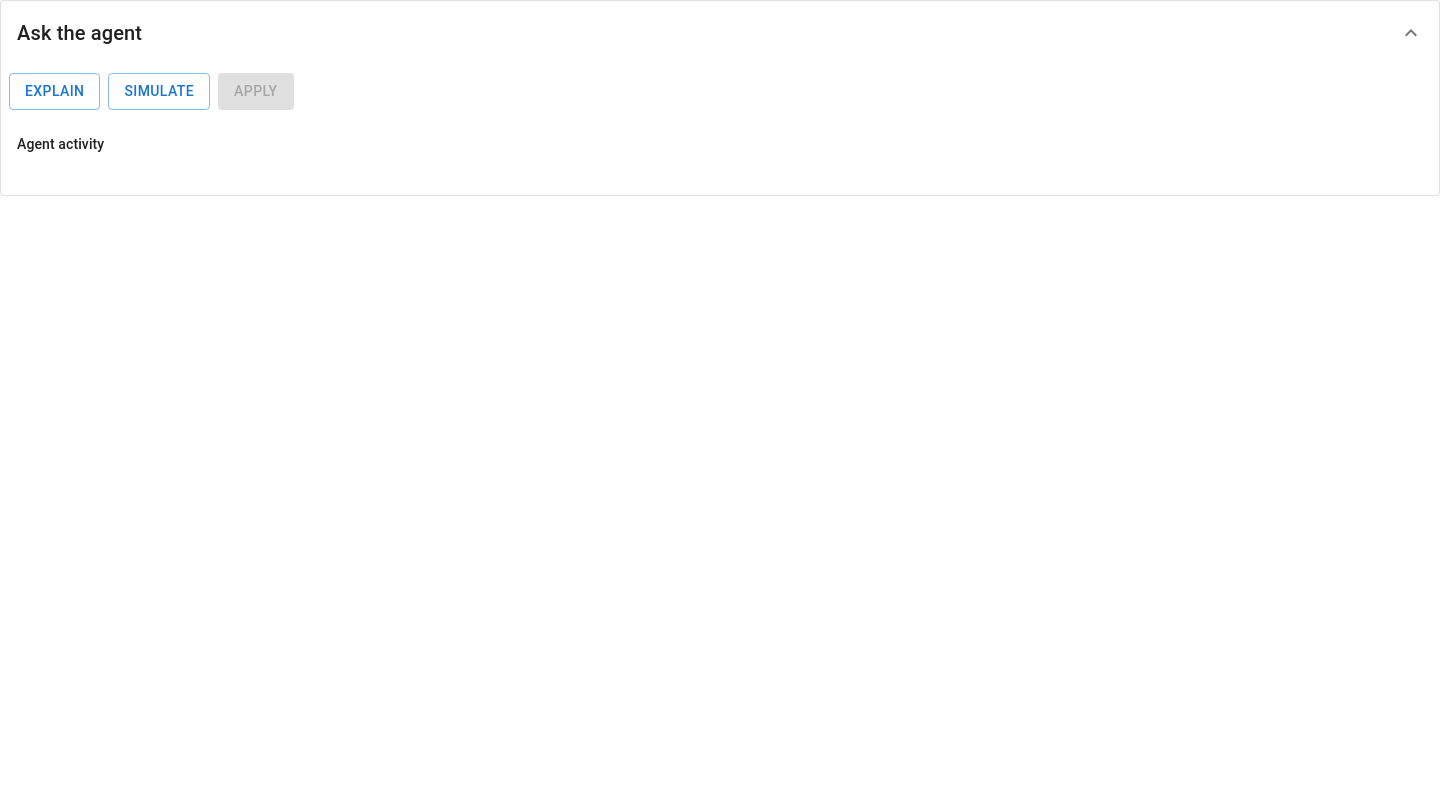
Test case: AgentPanel (screen.custom / agent-panel) › explains, simulates, then applies and reports the audit
Expected: the button with test id "agent-apply" is disabled, [218,73,294,110]
Step 1. Click the button with test id "agent-explain" → (55, 91), box [9,73,100,110]
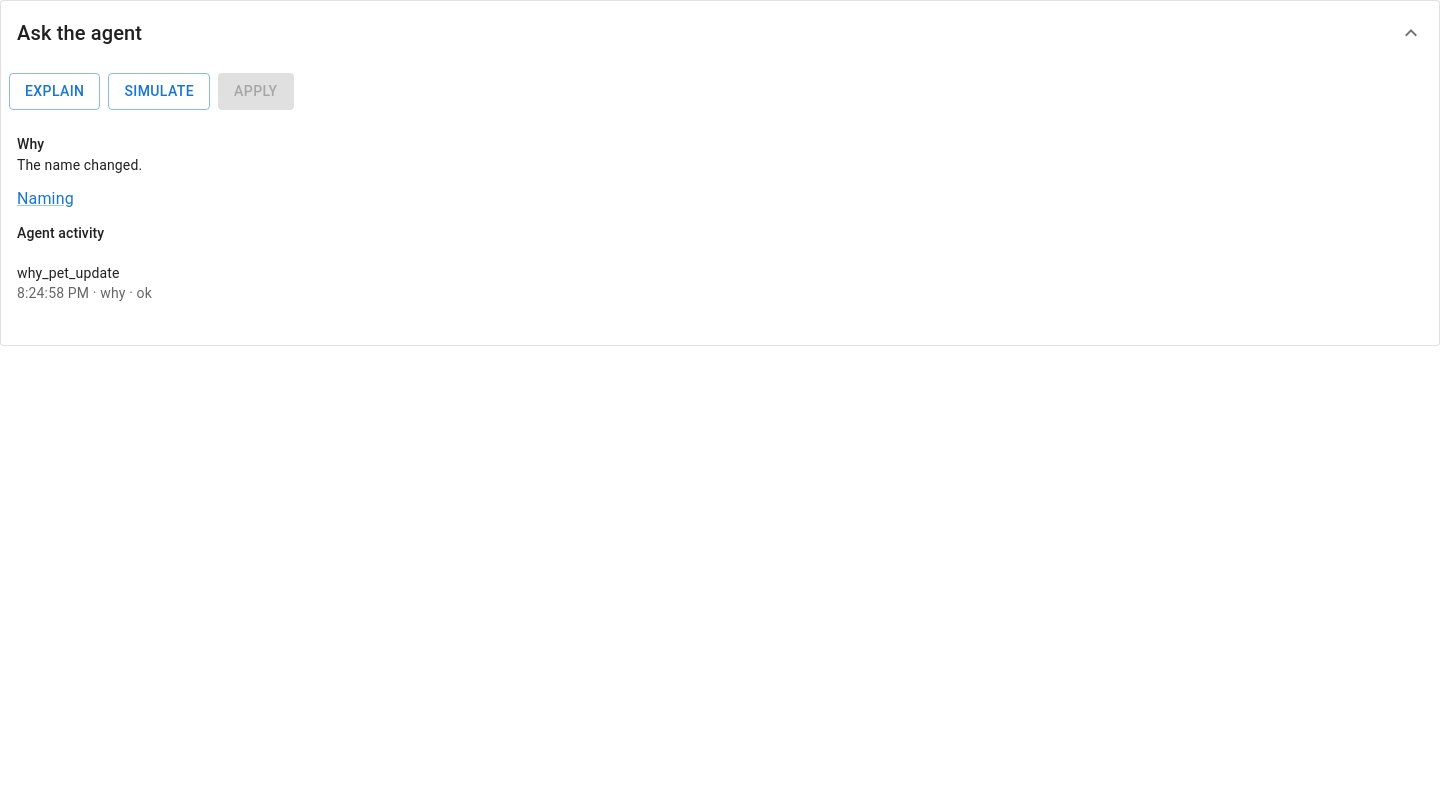
Expected: the button with test id "agent-apply" is disabled, [218,73,294,110]
Now the text "The name changed." is shown, box [17,158,142,174]
Step 2. Click the button with test id "agent-simulate" → (159, 91), box [108,73,210,110]
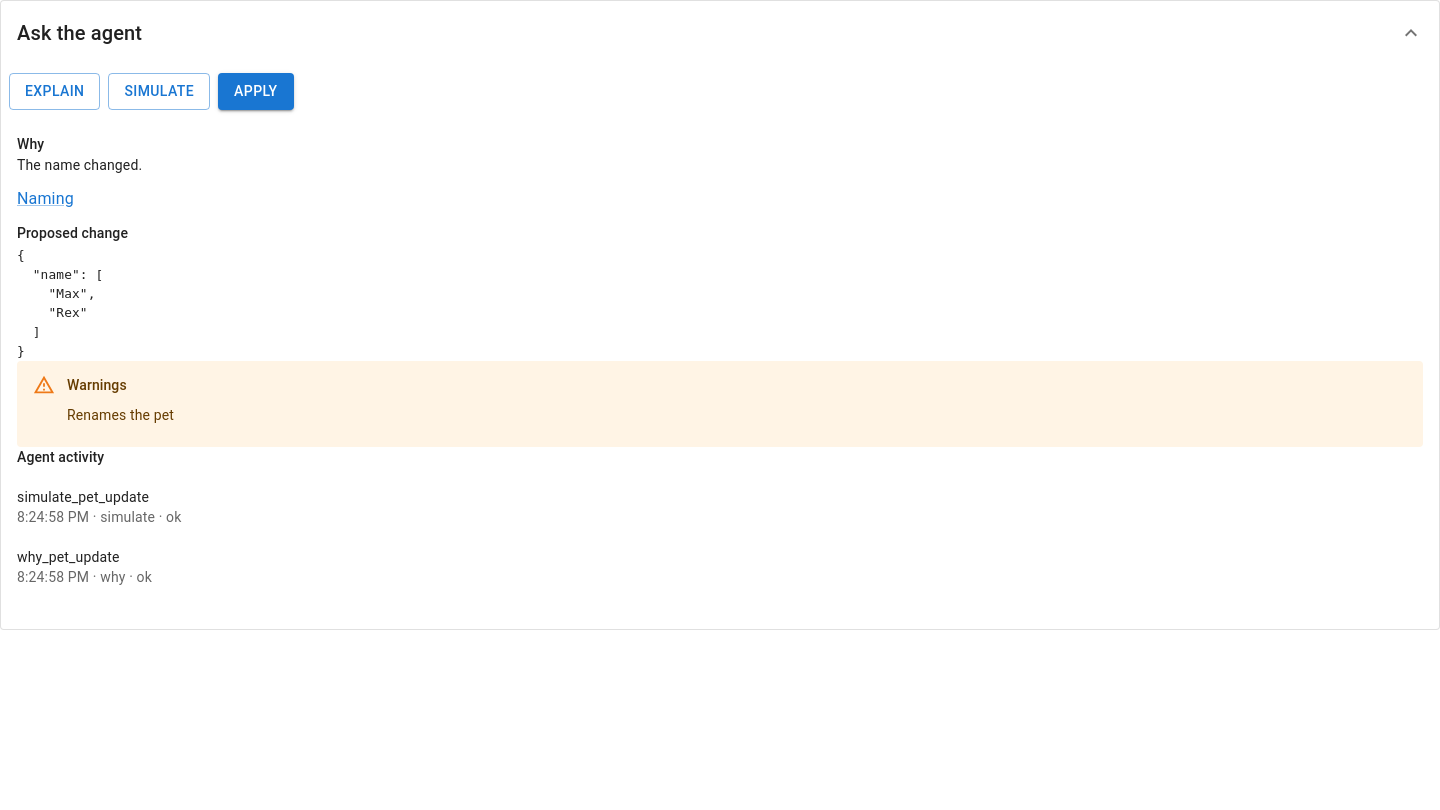
Now the text with test id "agent-diff" shows "\"Rex\"", box [17,248,103,358]
Now the message with test id "agent-warnings" shows "Renames the pet", box [67,406,174,422]
Now the button with test id "agent-apply" is enabled
Step 3. Click the button with test id "agent-apply" → (256, 91), box [218,73,294,110]
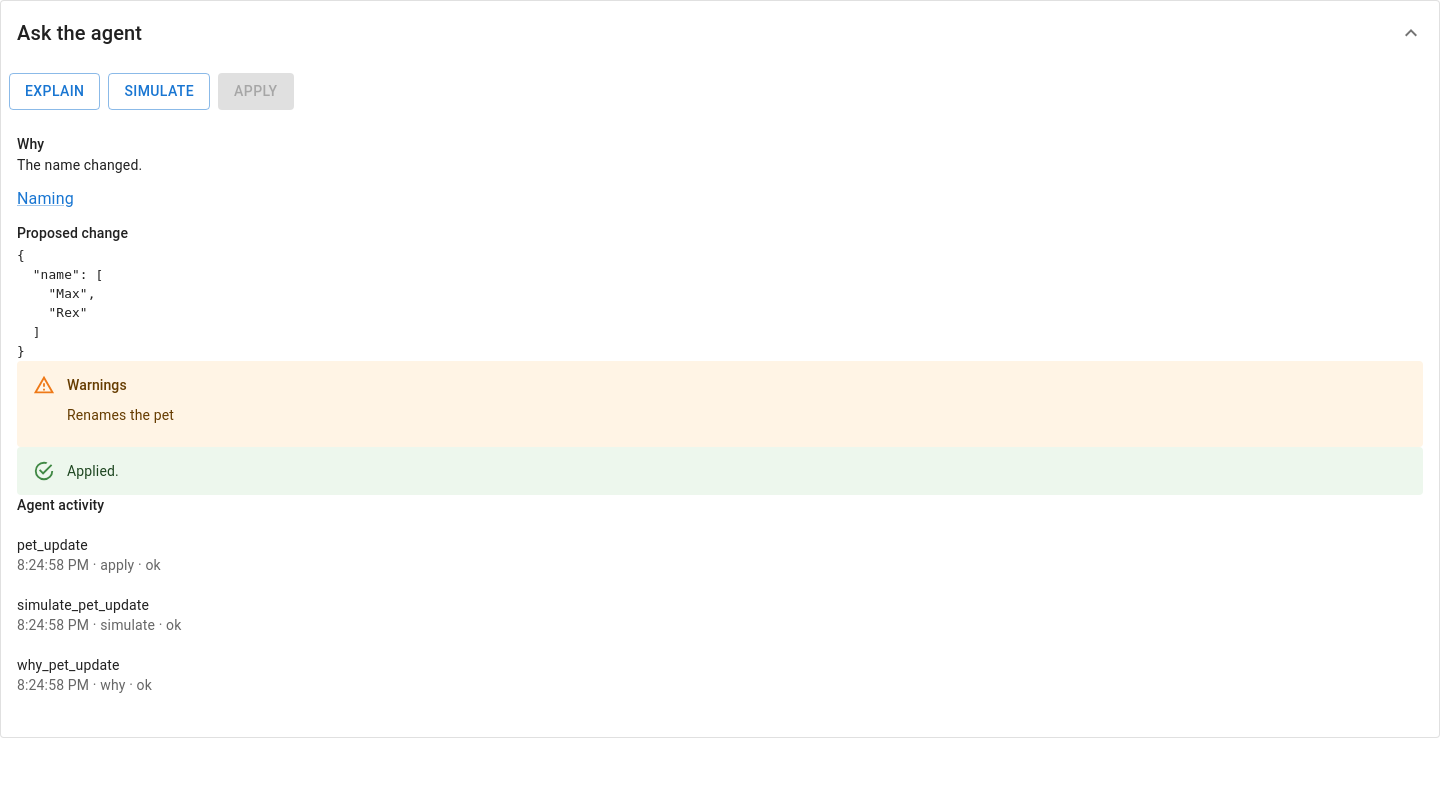
Now the list item "why_pet_update 8:24:58 PM · why · ok" is shown, box [17,657,152,693]
Now the message "Applied." is shown, box [17,447,1423,495]
Now the list item "pet_update 8:24:58 PM · apply · ok" is shown, box [17,536,161,572]
